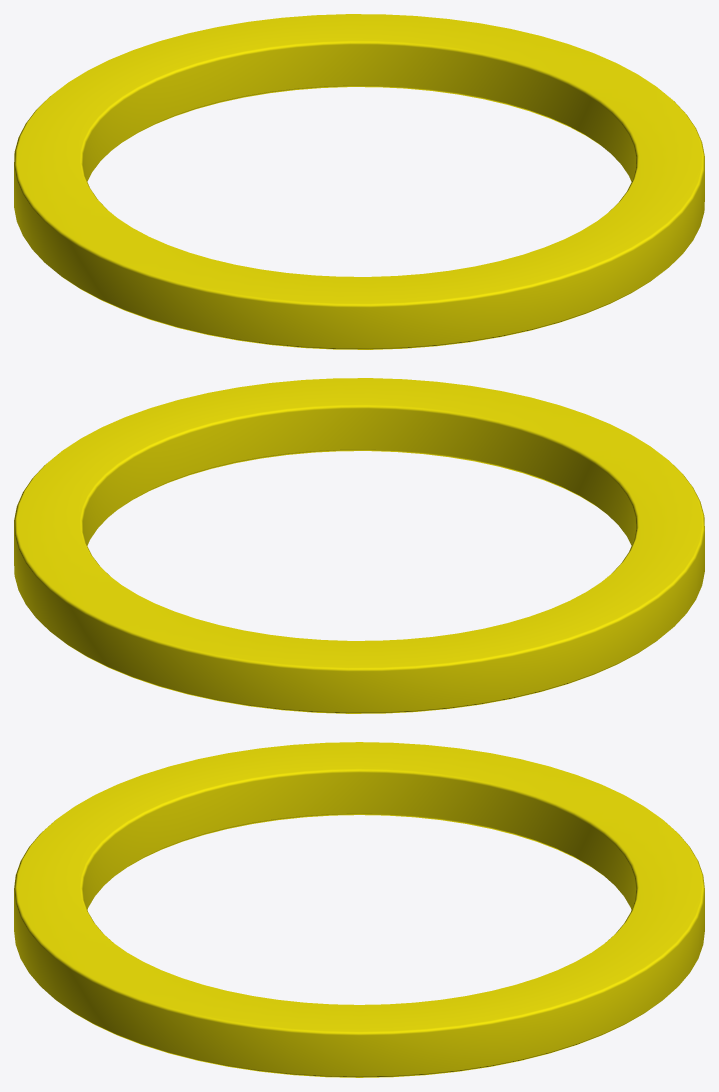
3 views of the same model, one above another, from view 1: azimuth 30°, elevation 25°; view 2: azimuth 150°, elevation 25°; view 3: azimuth 270°, elevation 25° (orthographic).
Parts seen in each view (by area): view 1: seal_body; view 2: seal_body; view 3: seal_body.
Boxes of the visible parts, box(x1,y1,x2,y2) form: seal_body: box(14, 14, 704, 349); seal_body: box(14, 378, 704, 713); seal_body: box(14, 742, 704, 1077).
Bounding box in the file's own units: 0.0356 × 0.00264 × 0.0356.
